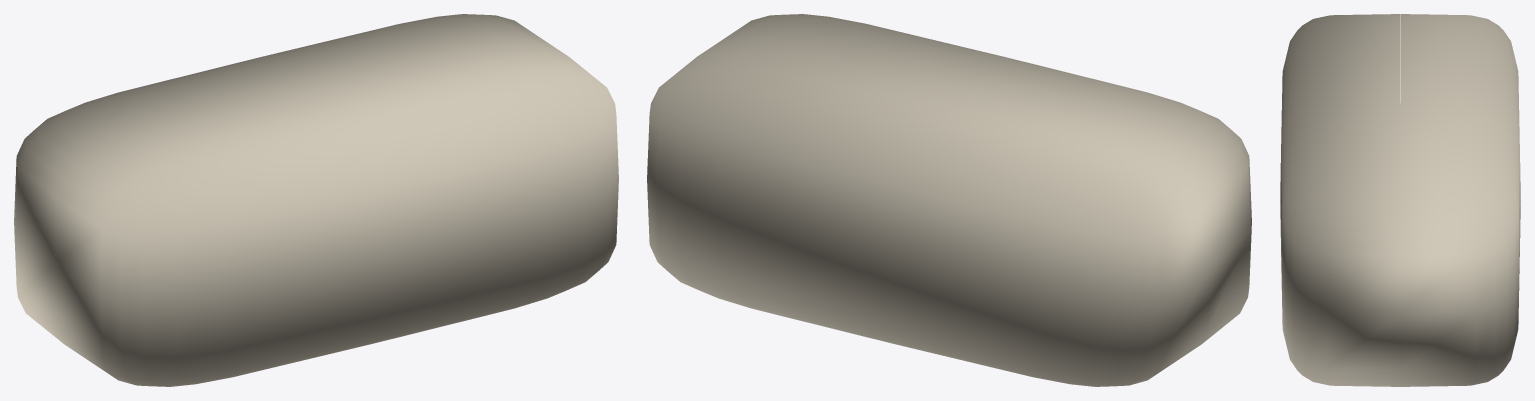
File: newport-101458-g2-proxy.glb
3 renders of one model, left to right at view 1: azimuth 30°, elevation 25°; view 2: azimuth 150°, elevation 25°; view 3: azimuth 270°, elevation 25°, orthographic. The views are drawn at different scales.
Visible parts, largest first — view 1: proxy_body; view 2: proxy_body; view 3: proxy_body.
Boxes of the visible parts, x1,y1,x2,y2 form: proxy_body: [14, 14, 618, 386]; proxy_body: [647, 14, 1251, 386]; proxy_body: [1280, 14, 1520, 386].
Bounding box in the file's own units: 2 × 0.8 × 0.9.
